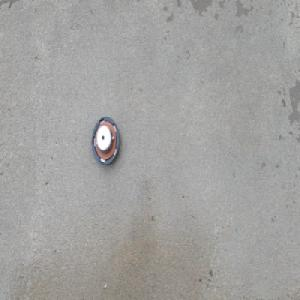FuelCap: (90, 114, 120, 167)
